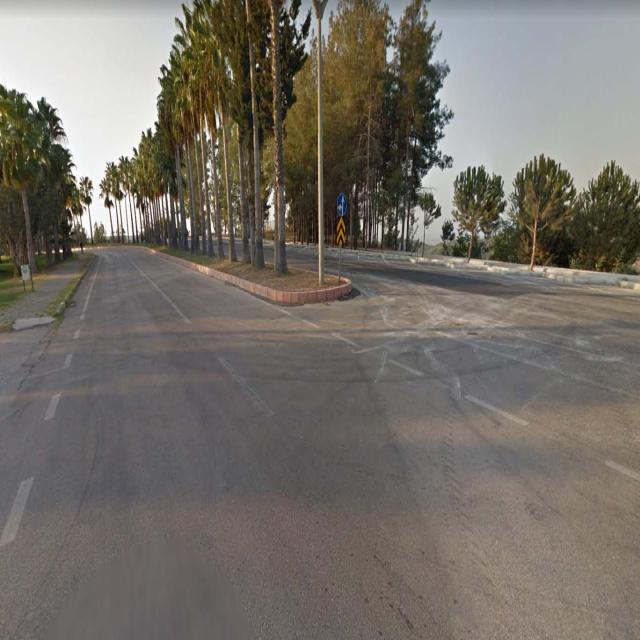ilerisol: (337, 192, 347, 215)
